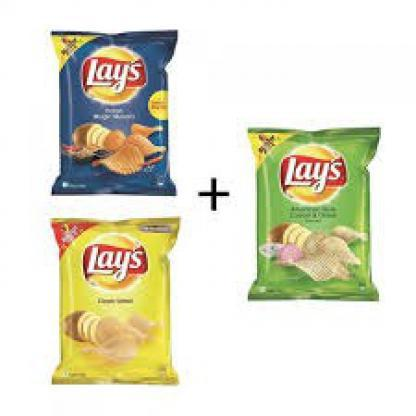classicsalted: (50, 215, 177, 387)
cream_and_onion: (246, 126, 381, 301)
indian_magic_masala: (50, 28, 179, 198)
